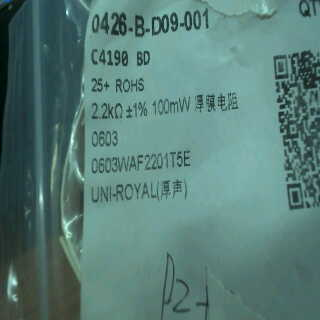2.2kR: (88, 100, 125, 125)
